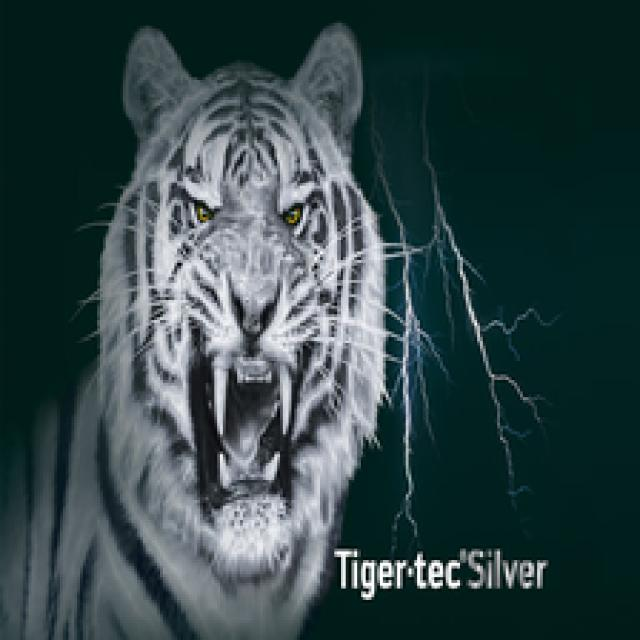tiger: (0, 0, 414, 640)
